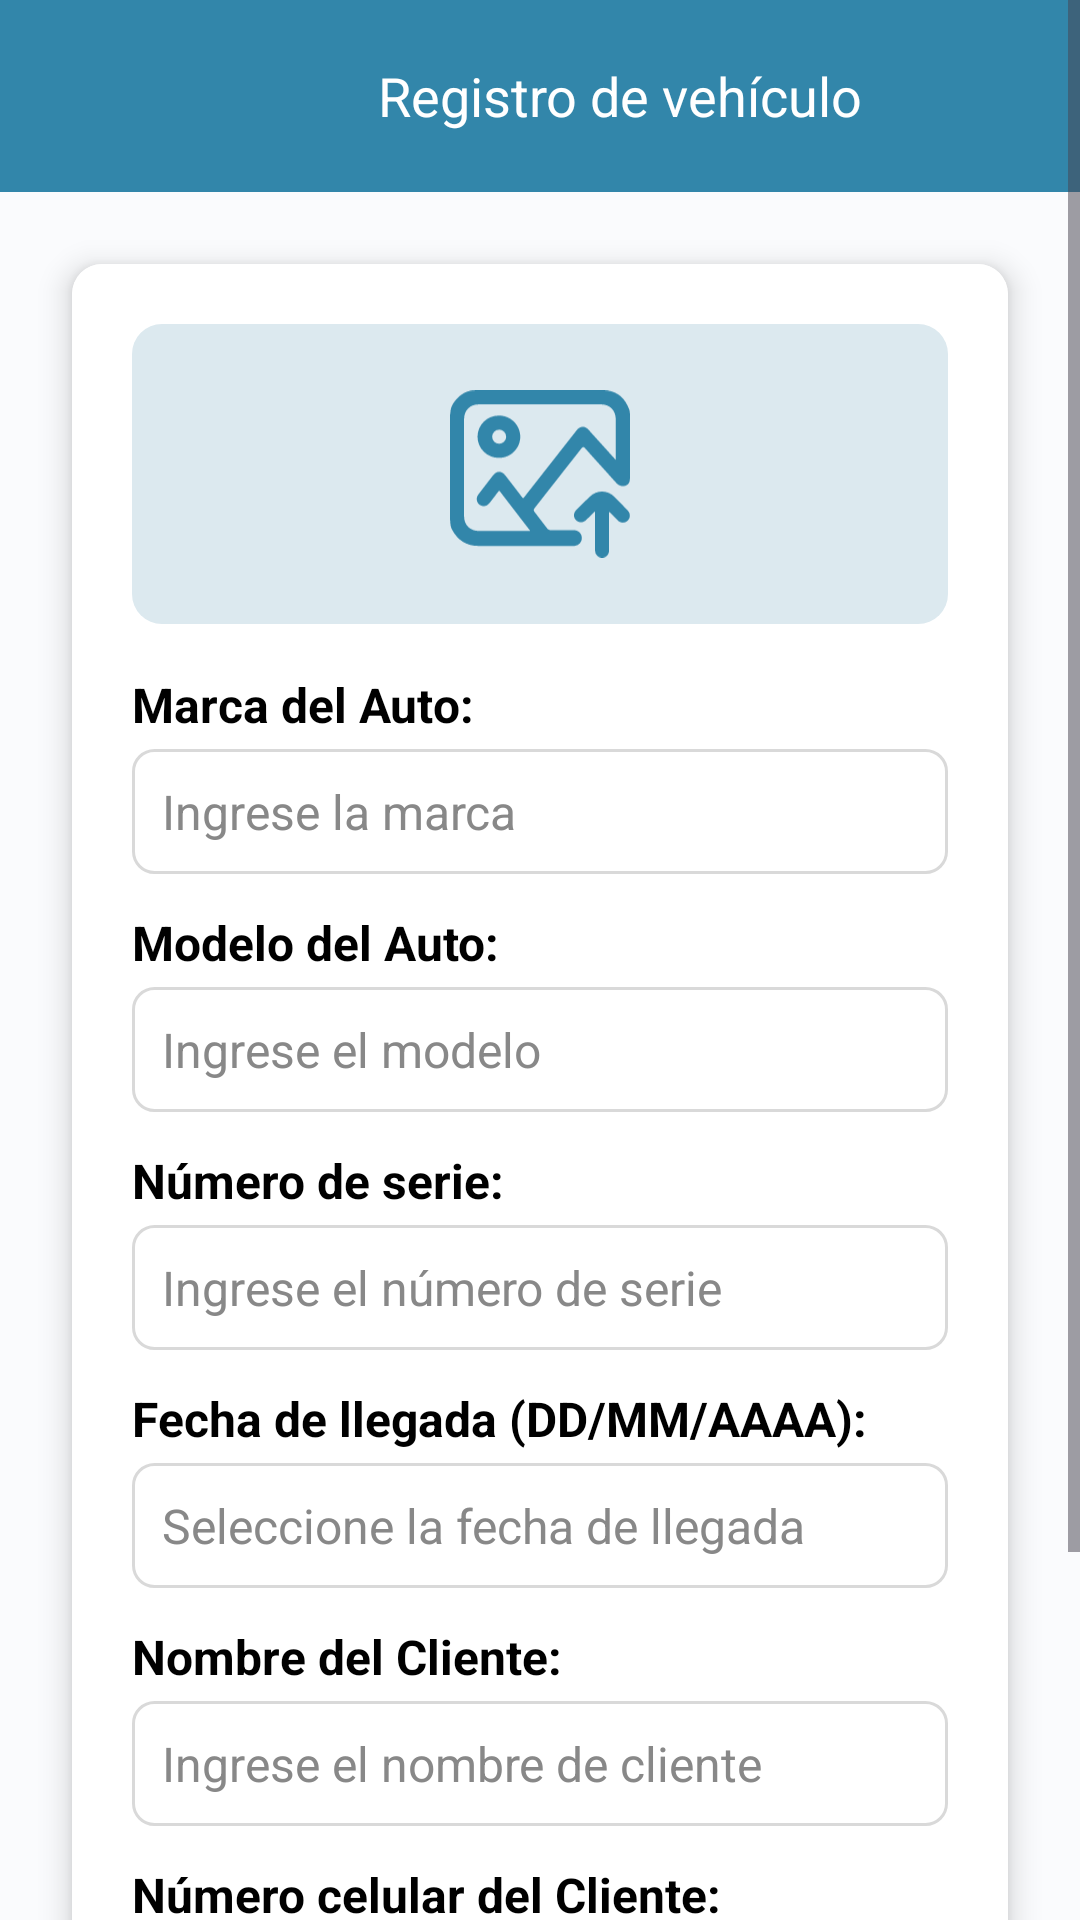

Screen size 1080px x 1920px. Icon name, then its center in pixels as [x,y]:
upload: [540,474]
